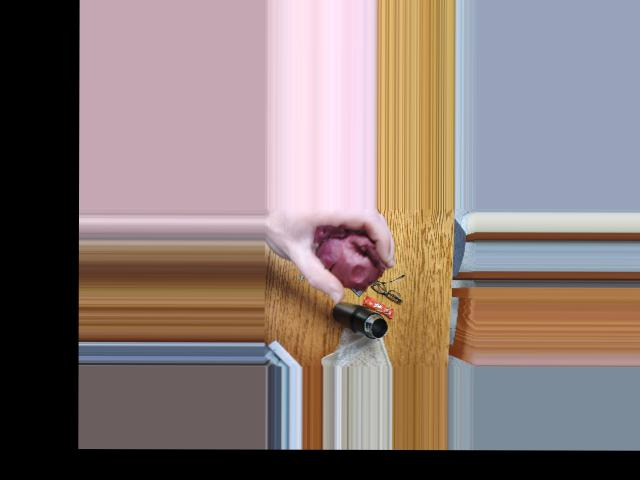onion: (329, 237, 382, 280)
